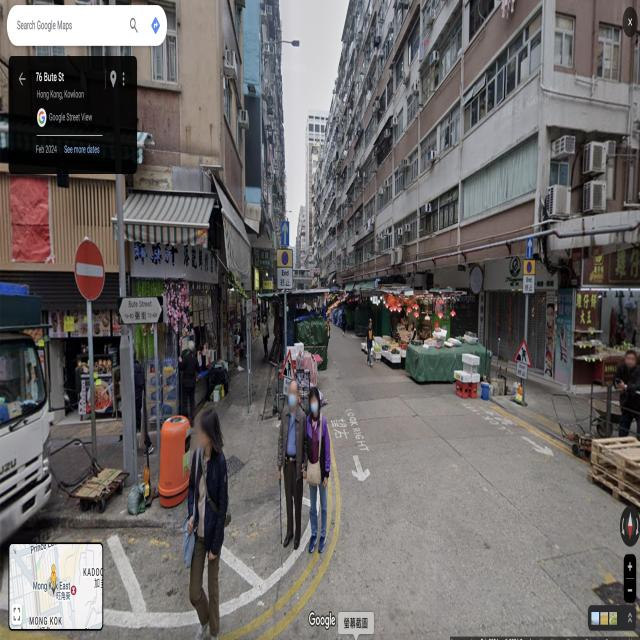Direction-Sign: (281, 220, 290, 246), (527, 238, 532, 258)
Order-Sign: (74, 239, 105, 301), (277, 250, 293, 290), (524, 260, 534, 292)
Street-Direction-Sign: (118, 295, 164, 325), (246, 298, 253, 314)
Warning-Sign: (513, 339, 533, 369), (280, 349, 296, 381)
